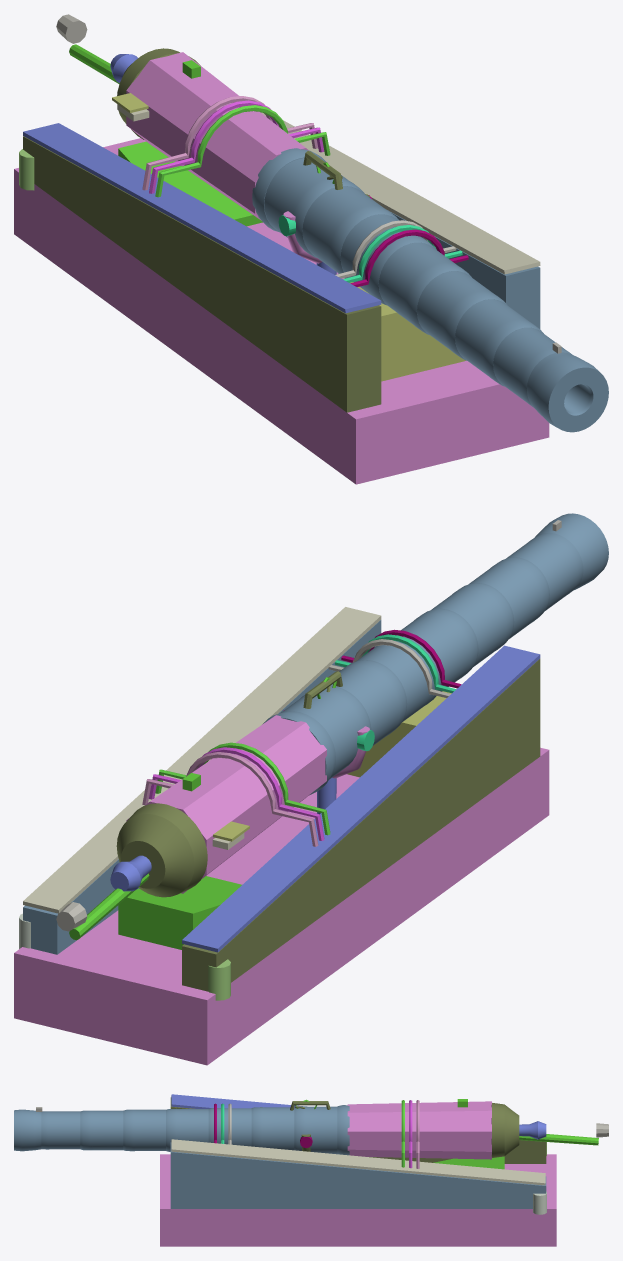
File: guns.glb
3 renders of one model, top to bottom at view 1: azimuth 30°, elevation 25°; view 2: azimuth 150°, elevation 25°; view 3: azimuth 270°, elevation 25°, orthographic. The views are drawn at different scales.
Parts seen in each view (by area): view 1: oozutsu_bed, oozutsu, ishibiya; view 2: oozutsu_bed, oozutsu, ishibiya, ishibiya_yoke; view 3: oozutsu_bed, oozutsu, ishibiya, ishibiya_chamber.
Boxes of the visible parts, box(x1,y1,x2,y2) form: oozutsu_bed: box(14, 96, 549, 484); oozutsu: box(110, 48, 608, 432); ishibiya: box(56, 14, 372, 236); oozutsu_bed: box(14, 607, 549, 1065); oozutsu: box(110, 513, 608, 897); ishibiya: box(56, 710, 374, 940); ishibiya_yoke: box(317, 726, 369, 814); oozutsu_bed: box(160, 1094, 556, 1246); oozutsu: box(14, 1099, 546, 1159); ishibiya: box(300, 1123, 608, 1147); ishibiya_chamber: box(290, 1101, 330, 1110).
Bounding box in the file's own units: 0.67 × 0.7123 × 2.85.
